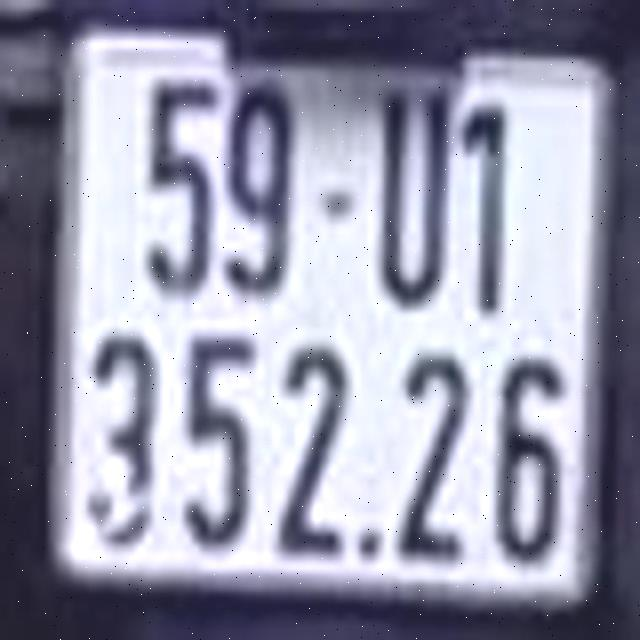1: (462, 105, 508, 312)
2: (277, 343, 345, 555), (399, 352, 467, 561)
3: (85, 330, 158, 548)
5: (184, 332, 254, 548), (147, 80, 215, 294)
6: (497, 356, 565, 564)
9: (225, 86, 291, 296)
U: (378, 89, 452, 306)
